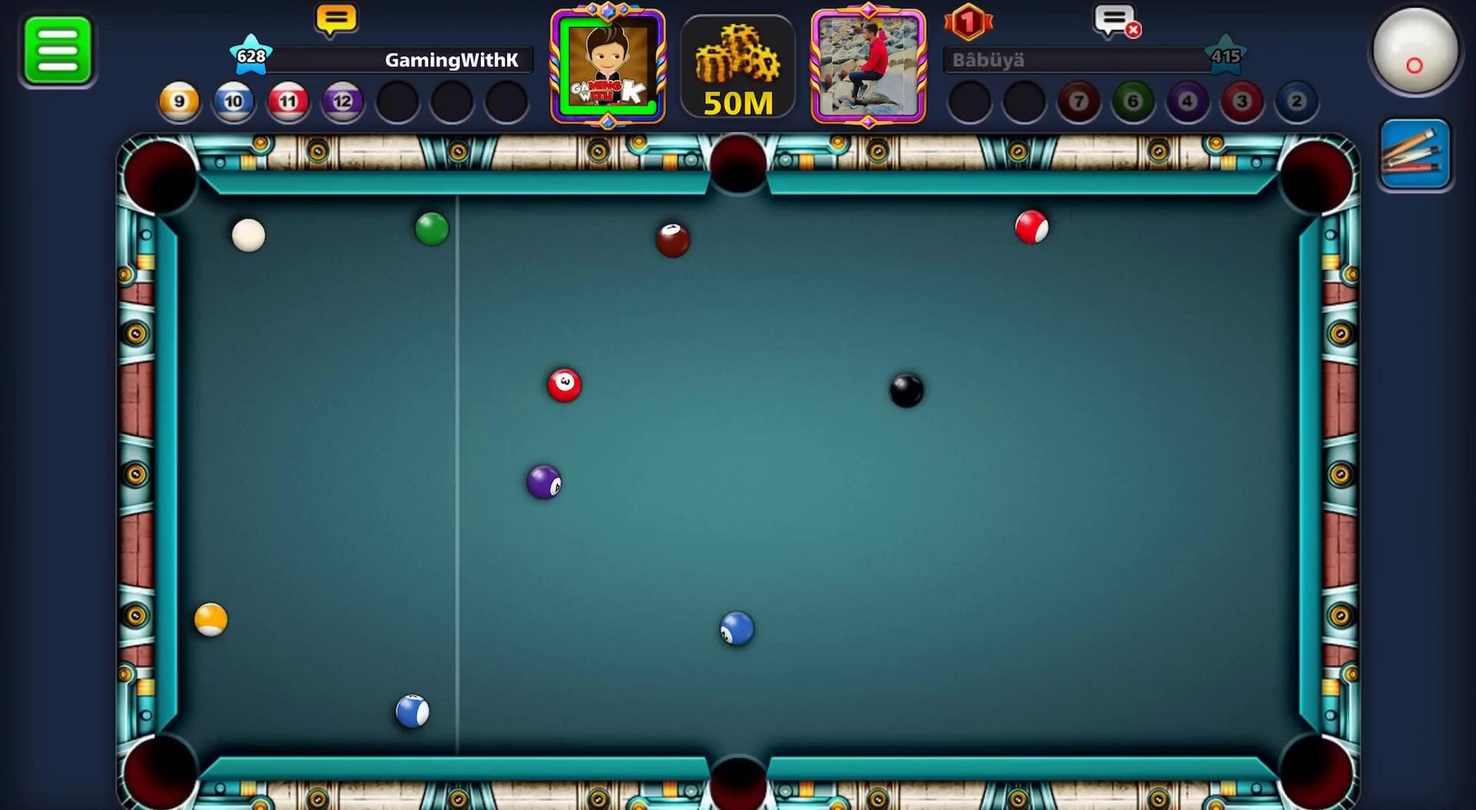Ball: (515, 456, 572, 508), (538, 359, 587, 410), (388, 691, 435, 735), (883, 369, 929, 413), (714, 607, 757, 654), (647, 218, 695, 260), (1009, 205, 1053, 248), (189, 599, 232, 642), (408, 210, 450, 249)
Hole: (1253, 705, 1373, 809), (110, 122, 218, 234), (102, 718, 220, 809), (1264, 127, 1364, 228), (699, 120, 788, 218), (690, 728, 783, 809)
Play_Area: (178, 195, 1296, 756)
Spin: (1361, 0, 1475, 111)
White: (225, 215, 272, 256)
